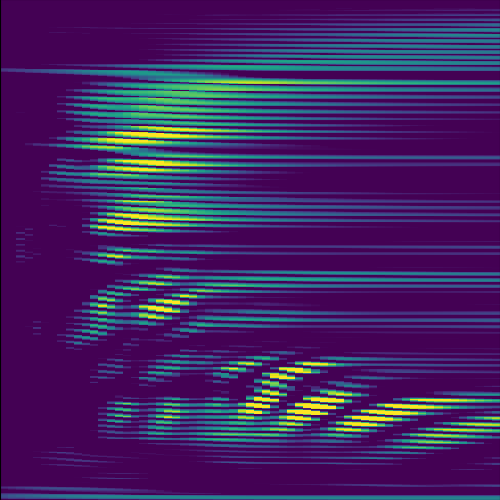semblance: (92, 250, 209, 332), (331, 388, 482, 444), (236, 353, 335, 423), (90, 193, 216, 239), (85, 116, 250, 151), (269, 387, 360, 440), (394, 410, 500, 454), (98, 153, 221, 180), (214, 349, 259, 380)
